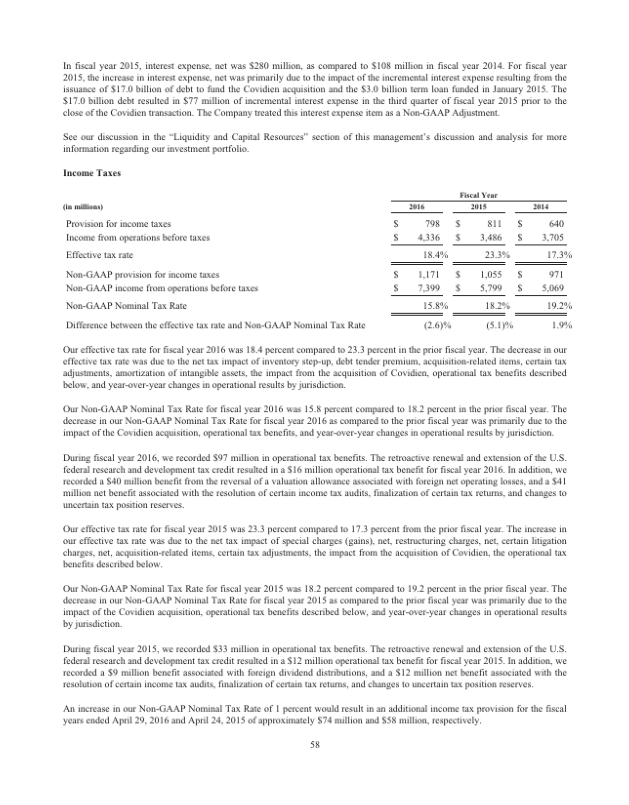table: (384, 184, 577, 336)
